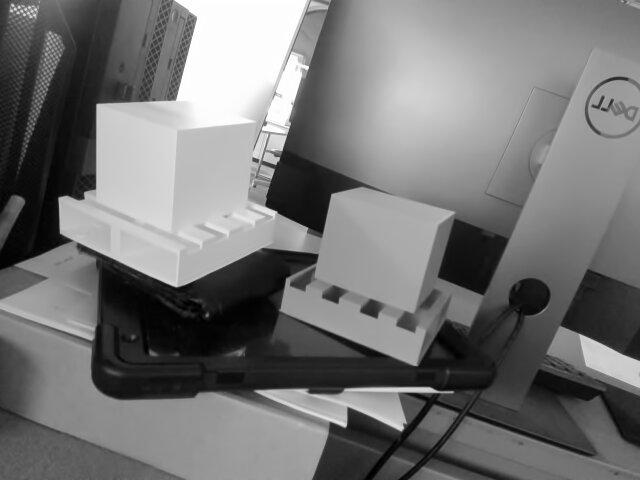grey pallet: (259, 180, 493, 369)
white pallet: (47, 88, 282, 297)
